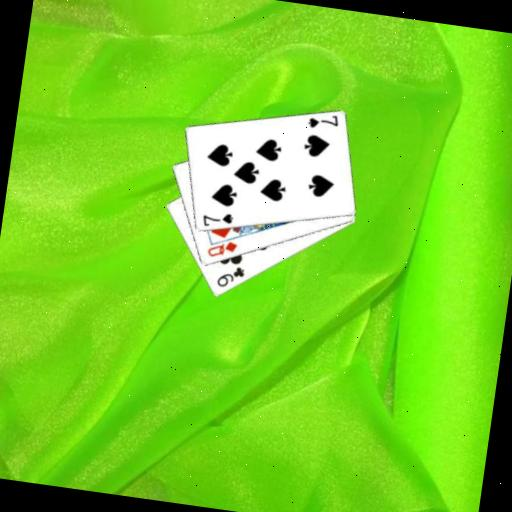7S: (198, 207, 235, 232), (305, 109, 341, 134)
9C: (213, 261, 247, 292)
QD: (204, 236, 240, 262)
